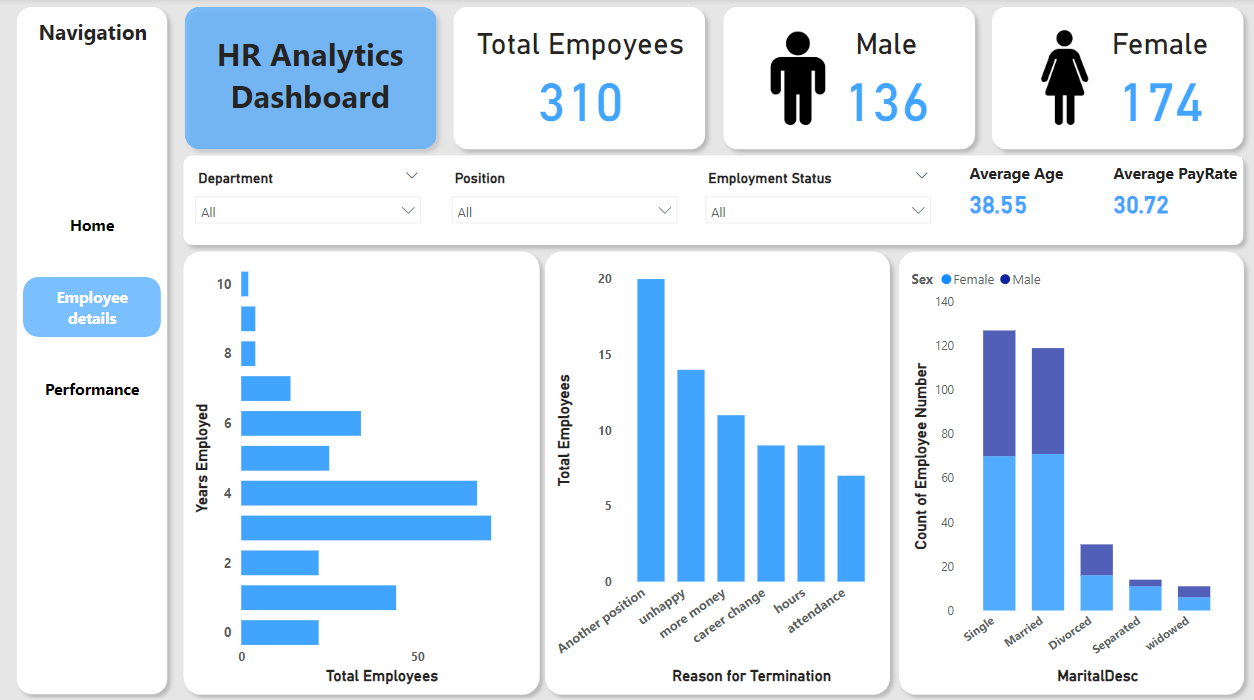

The page's visual inventory and layout, read from the dashboard file:
{"tool":"powerbi","page":{"name":"Employee Details","canvas":[1280,720],"ordinal":1},"visuals":[{"type":"shape","box":[180,0,275,163.3],"z":0},{"type":"shape","box":[455,0,275,163.3],"z":1000},{"type":"shape","box":[730,0,275,163.3],"z":2000},{"type":"shape","box":[1005,0,275,163.3],"z":3000},{"type":"card","title":"Total Empoyees","fields":{"Values":["CountNonNull(HRDataset_v13.EmpID)"]},"box":[480,28.3,225,106.7],"z":4000},{"type":"shape","box":[179.5,151.2,1099.9,109.6],"z":5000},{"type":"cardVisual","fields":{"Data":["Avg(core_dataset.Age)","Avg(core_dataset.Pay Rate)"]},"box":[980.8,162.5,287.2,79.4],"z":6000},{"type":"slicer","title":"  Department","fields":{"Values":["core_dataset.Department"]},"box":[194.6,170.1,245.7,71.8],"z":7000},{"type":"slicer","title":"  Department","fields":{"Values":["core_dataset.Position"]},"box":[455.4,170.1,245.7,71.8],"z":8000},{"type":"slicer","title":"  Department","fields":{"Values":["core_dataset.Employment Status"]},"box":[714.3,170.1,245.7,71.8],"z":9000},{"type":"shape","box":[909,249.5,370.4,470.6],"z":10000},{"type":"columnChart","fields":{"Category":["core_dataset.MaritalDesc"],"Series":["core_dataset.Sex"],"Y":["CountNonNull(core_dataset.Employee Number)"]},"box":[926,266.5,336.4,438.4],"z":11000},{"type":"shape","box":[548,249.5,370.4,470.6],"z":12000},{"type":"columnChart","fields":{"Category":["core_dataset.Reason For Term"],"Y":["Sum(HRDataset_v13.Termd)"]},"box":[561.3,272.1,343.9,432.8],"z":13000},{"type":"shape","box":[179.5,249.5,381.7,470.6],"z":14000},{"type":"barChart","fields":{"Category":["HRDataset_v9.Years Employed"],"Y":["CountNonNull(HRDataset_v9.Employee Number)"]},"box":[192.8,262.7,353.4,442.2],"z":15000},{"type":"shape","box":[9.2,0,171.5,719.5],"z":16000},{"type":"actionButton","box":[24.5,200.5,140.8,61.2],"z":17000},{"type":"actionButton","box":[24.5,284.7,140.8,61.2],"z":18000},{"type":"actionButton","box":[24.5,368,140.8,61.2],"z":19000},{"type":"textbox","box":[35.2,13.8,130.1,67.4],"z":20000},{"type":"textbox","box":[202.1,29.1,231.2,107.2],"z":21000},{"type":"card","title":"Female","fields":{"Values":["CountNonNull(HRDataset_v13.EmpID)"]},"box":[1114.5,29.1,140.8,105.6],"z":22000},{"type":"image","box":[1033.3,27.6,108.7,107.2],"z":23000},{"type":"card","title":"Male","fields":{"Values":["CountNonNull(HRDataset_v13.EmpID)"]},"box":[829.7,29.1,151.6,105.6],"z":24000},{"type":"image","box":[762.4,23,105.6,117.9],"z":25000}]}

Visuals, with their boxes in screenshot pixels (x1, y1, x2, y2), scaled from the page's 1280x720 canvas onto the 1254x700 screenshot:
shape: [176,0,446,159]
shape: [446,0,715,159]
shape: [715,0,985,159]
shape: [985,0,1253,159]
"Total Empoyees" card: [470,28,691,131]
shape: [176,147,1253,254]
cardVisual - Avg(core_dataset.Age) x Avg(core_dataset.Pay Rate): [961,158,1242,235]
"  Department" slicer: [191,165,431,235]
"  Department" slicer: [446,165,687,235]
"  Department" slicer: [700,165,940,235]
shape: [891,243,1253,699]
columnChart - core_dataset.MaritalDesc x core_dataset.Sex: [907,259,1237,685]
shape: [537,243,900,699]
columnChart - core_dataset.Reason For Term x Sum(HRDataset_v13.Termd): [550,265,887,685]
shape: [176,243,550,699]
barChart - HRDataset_v9.Years Employed x CountNonNull(HRDataset_v9.Employee Number): [189,255,535,685]
shape: [9,0,177,699]
actionButton: [24,195,162,254]
actionButton: [24,277,162,336]
actionButton: [24,358,162,417]
textbox: [34,13,162,79]
textbox: [198,28,424,133]
"Female" card: [1092,28,1230,131]
image: [1012,27,1119,131]
"Male" card: [813,28,961,131]
image: [747,22,850,137]
